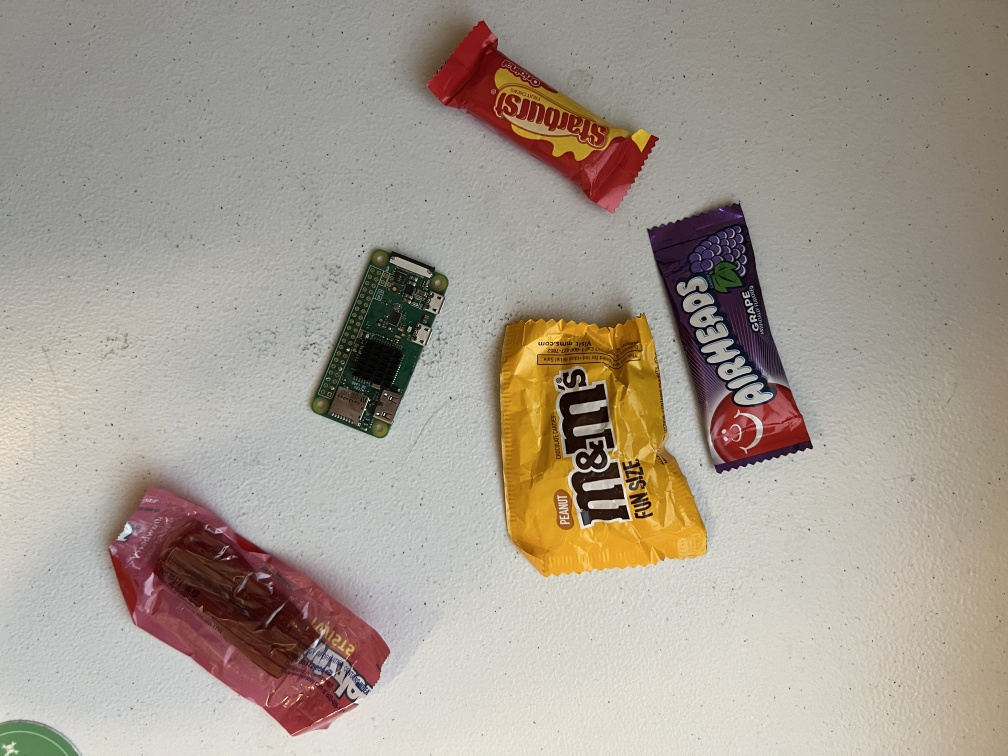MMs_regular: (497, 315, 708, 570)
airheads: (645, 202, 824, 465)
starbust: (407, 15, 667, 220)
twizzlers: (89, 476, 403, 741)
